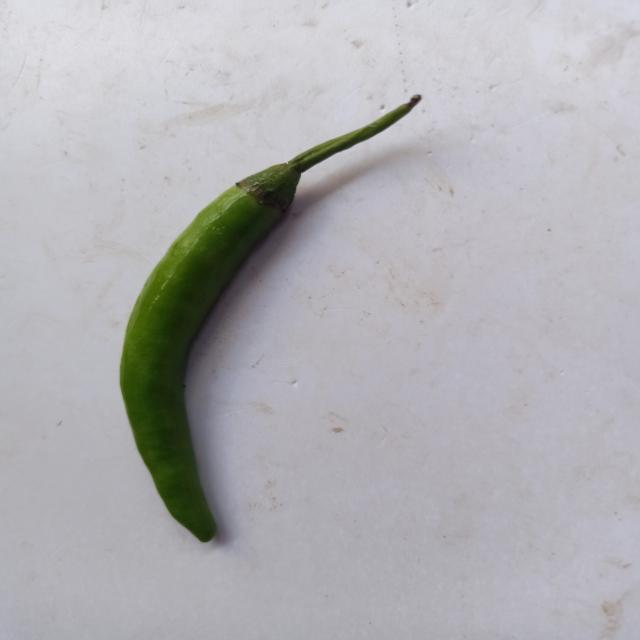Green Chilly: (119, 94, 421, 543)
